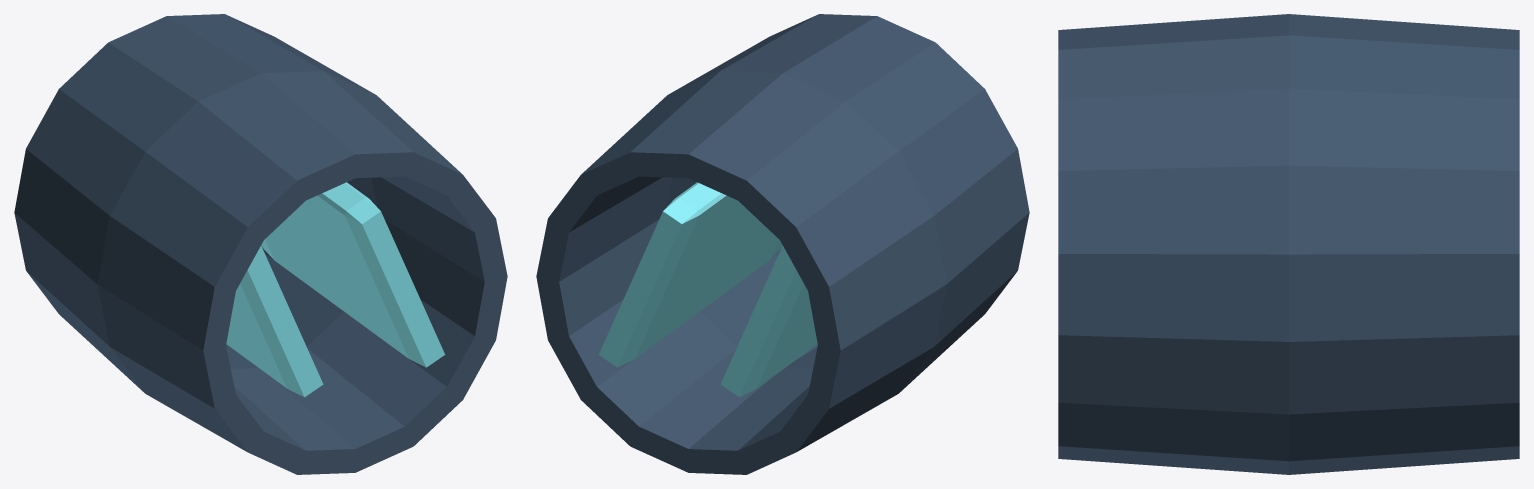
Rendered from PulseBadge.fbx.
3 renders of one model, left to right at view 1: azimuth 30°, elevation 25°; view 2: azimuth 150°, elevation 25°; view 3: azimuth 270°, elevation 25°, orthographic. The views are drawn at different scales.
Visible parts, largest first — view 1: PulseBadgeMesh; view 2: PulseBadgeMesh; view 3: PulseBadgeMesh.
Boxes of the visible parts, x1,y1,x2,y2 form: PulseBadgeMesh: [14, 14, 507, 474]; PulseBadgeMesh: [536, 14, 1029, 474]; PulseBadgeMesh: [1058, 14, 1519, 474].
Bounding box in the file's own units: 1 × 1 × 1.
